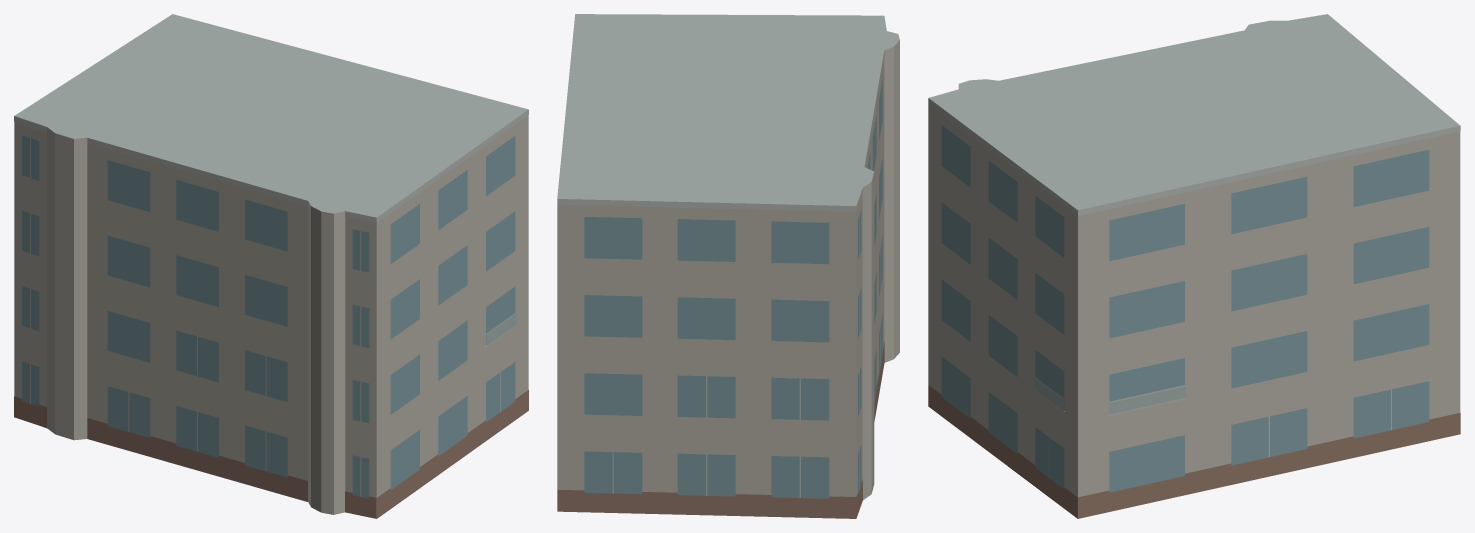
File: survey-upis-32944355.glb
The picture shows the model from 3 angles, left to right: view 1: azimuth 30°, elevation 25°; view 2: azimuth 150°, elevation 25°; view 3: azimuth 270°, elevation 25°; orthographic projection. The views are drawn at different scales.
Parts seen in each view (by area): view 1: survey-upis-32944355.tmp; view 2: survey-upis-32944355.tmp; view 3: survey-upis-32944355.tmp.
Part boxes in pixels (bbox=[...]): survey-upis-32944355.tmp: bbox=[14, 14, 528, 518]; survey-upis-32944355.tmp: bbox=[557, 14, 899, 518]; survey-upis-32944355.tmp: bbox=[928, 14, 1460, 518].
Bounding box in the file's own units: 17.88 × 13.1 × 20.48.
